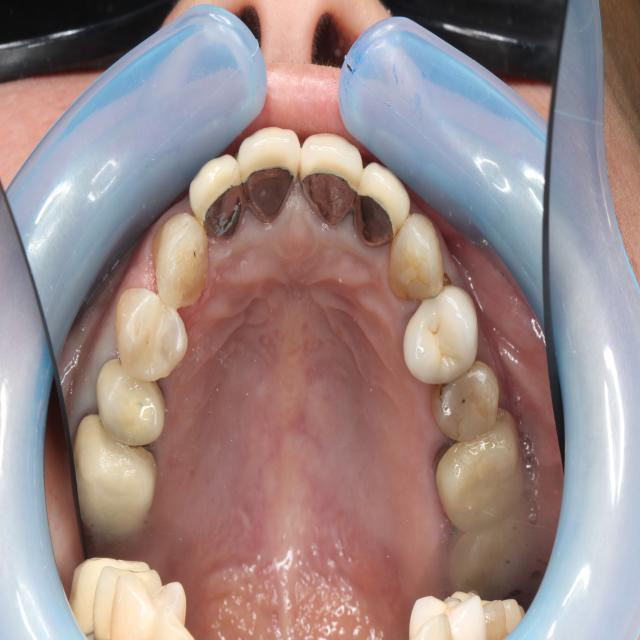tooth: (423, 403, 529, 539), (65, 405, 161, 555), (392, 280, 487, 393), (443, 513, 543, 609), (231, 116, 305, 234), (91, 345, 170, 453), (112, 281, 191, 388), (142, 204, 215, 315), (299, 126, 365, 237), (382, 203, 448, 311), (430, 351, 504, 447), (350, 149, 413, 257), (183, 149, 248, 251)
